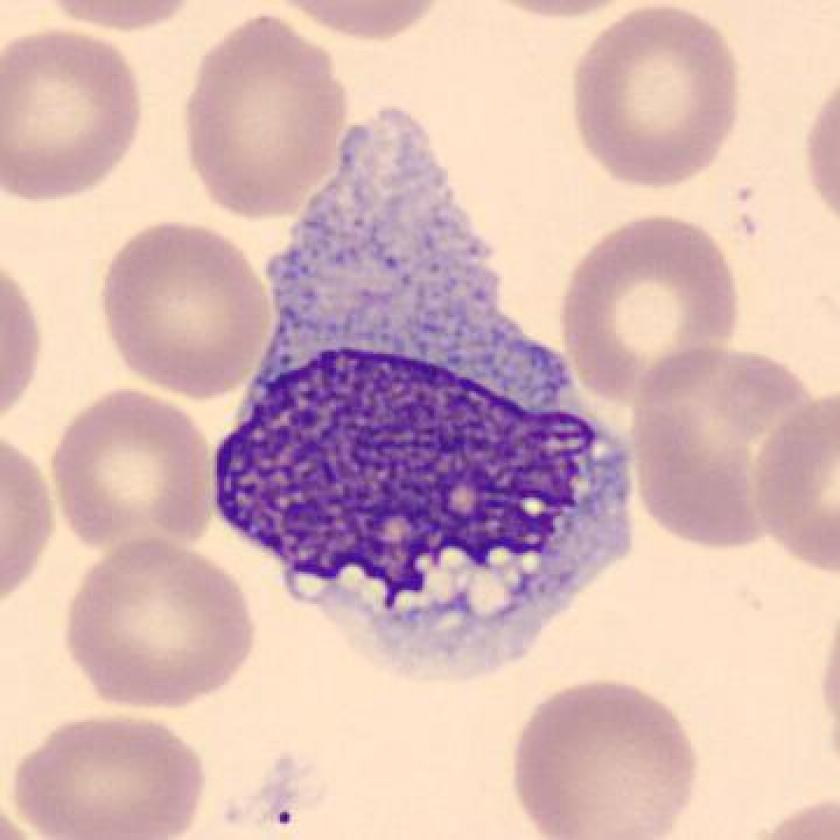monocyte: (190, 92, 650, 705)
